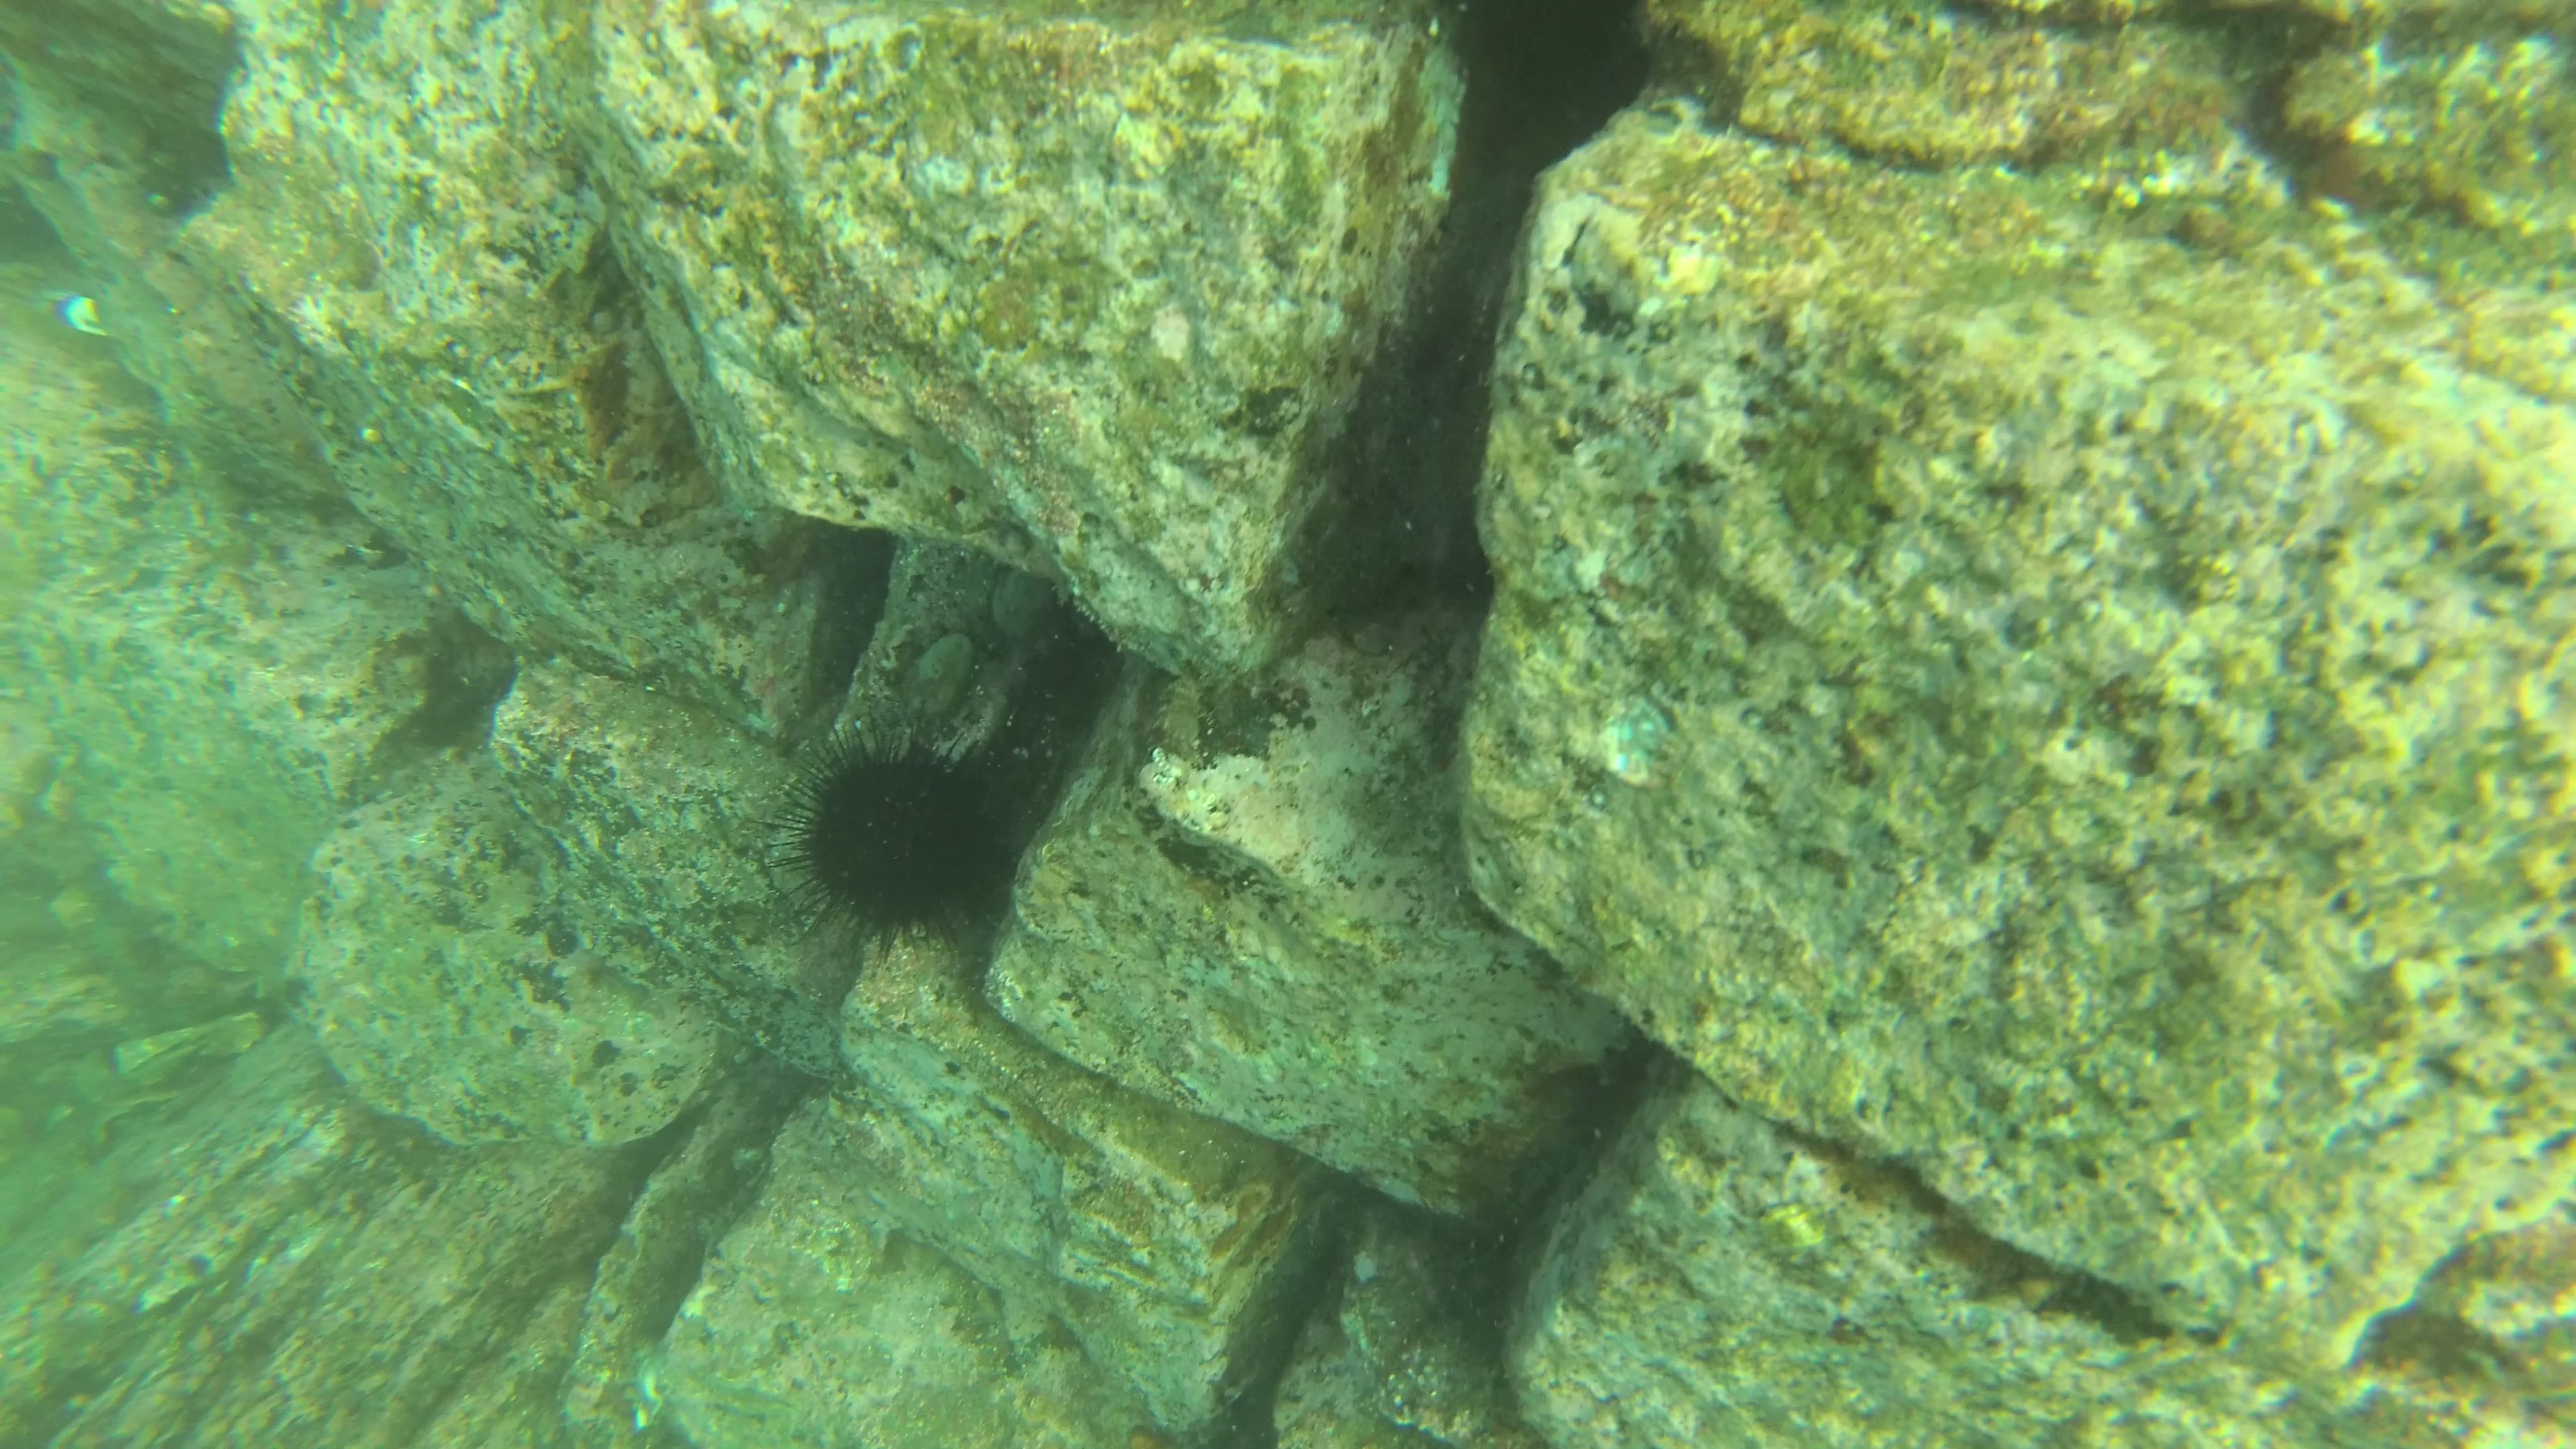echinus: (757, 720, 1012, 952)
